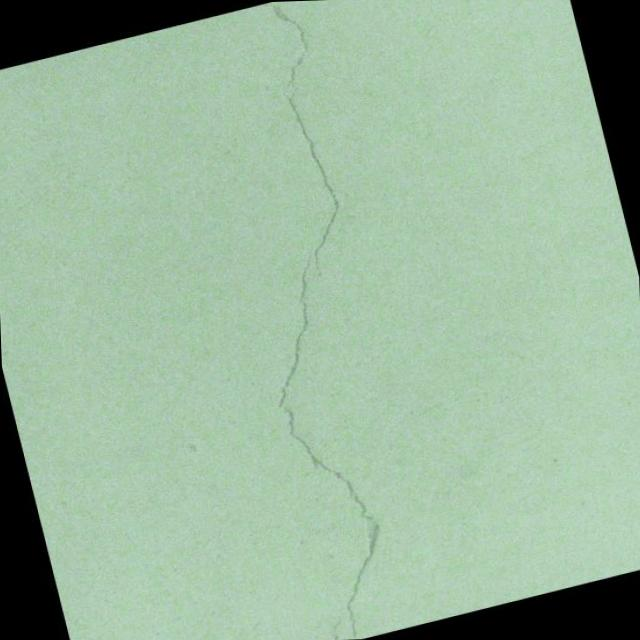crack: (178, 0, 459, 640)
